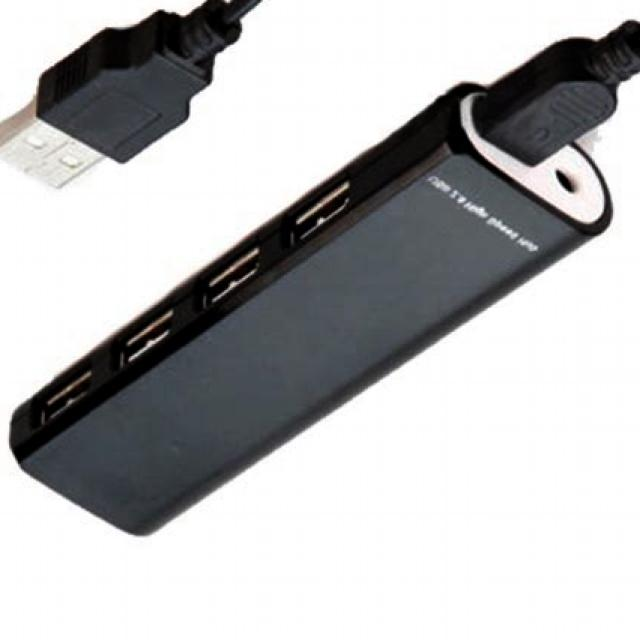usb port: (279, 173, 350, 257), (27, 365, 96, 430), (198, 238, 260, 310), (120, 307, 174, 368)
